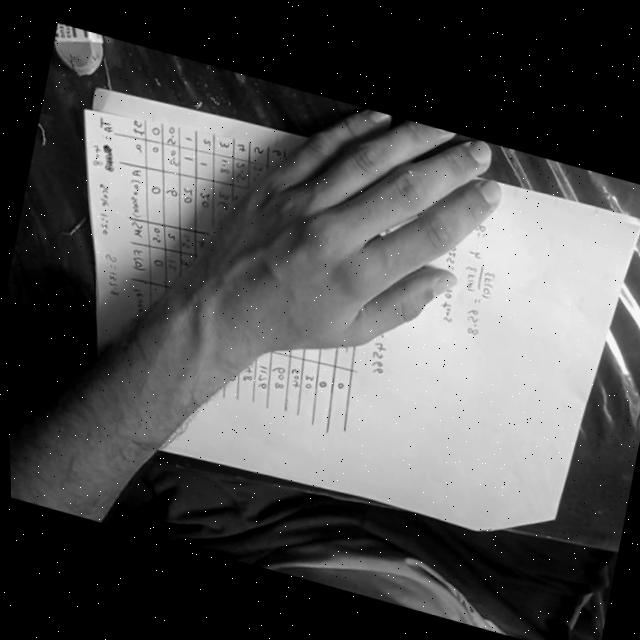document: (161, 184, 640, 529), (85, 89, 303, 343)
